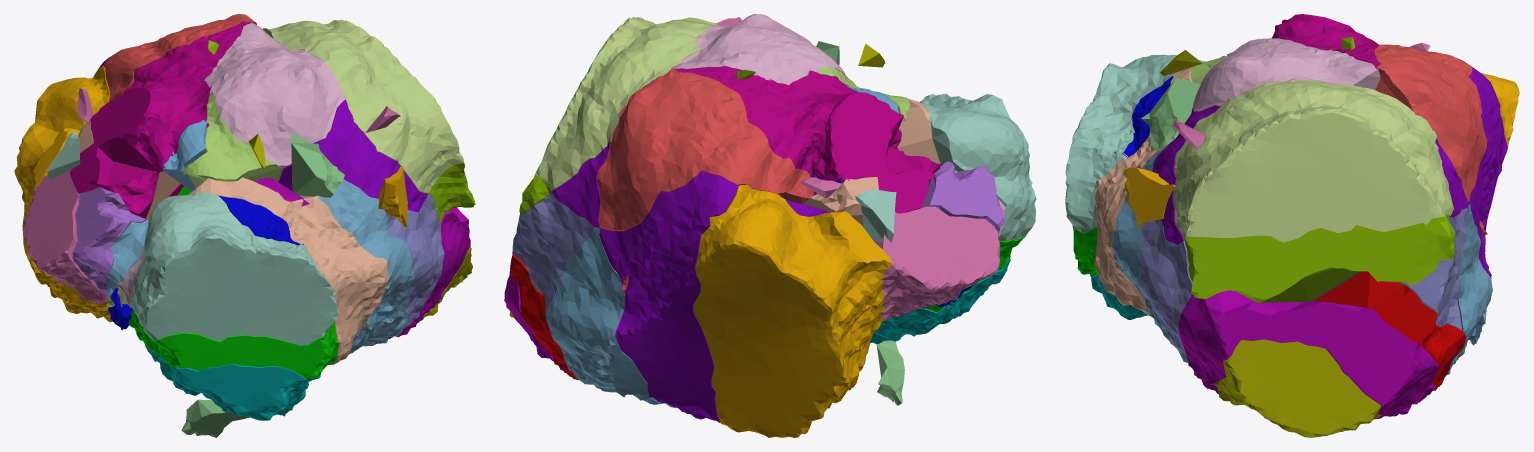
Rendered from fractured_73_55pcs.glb.
3 views of the same model, side by side, from view 1: azimuth 30°, elevation 25°; view 2: azimuth 150°, elevation 25°; view 3: azimuth 270°, elevation 25° (orthographic). The views are drawn at different scales.
Parts seen in each view (by area): view 1: piece_4.obj, piece_5.obj, piece_6.obj, piece_15.obj, piece_7.obj, piece_0.obj, piece_2.obj, piece_8.obj, piece_13.obj, piece_21.obj, piece_16.obj, piece_24.obj (+18 smaller); view 2: piece_0.obj, piece_1.obj, piece_18.obj, piece_15.obj, piece_5.obj, piece_21.obj, piece_2.obj, piece_4.obj, piece_6.obj, piece_26.obj, piece_19.obj, piece_24.obj (+12 smaller); view 3: piece_5.obj, piece_12.obj, piece_14.obj, piece_11.obj, piece_1.obj, piece_4.obj, piece_26.obj, piece_6.obj, piece_2.obj, piece_9.obj, piece_7.obj, piece_18.obj (+11 smaller).
Part boxes in pixels (<box>): piece_4.obj: <box>130,192,337,345</box>; piece_5.obj: <box>263,19,463,192</box>; piece_6.obj: <box>204,22,345,181</box>; piece_15.obj: <box>70,81,211,218</box>; piece_7.obj: <box>188,177,389,364</box>; piece_0.obj: <box>14,65,113,322</box>; piece_2.obj: <box>299,179,414,353</box>; piece_8.obj: <box>129,309,338,379</box>; piece_13.obj: <box>145,345,323,420</box>; piece_21.obj: <box>22,169,107,304</box>; piece_16.obj: <box>278,99,427,212</box>; piece_24.obj: <box>72,187,146,296</box>; piece_0.obj: <box>693,185,891,437</box>; piece_1.obj: <box>596,68,813,231</box>; piece_18.obj: <box>599,170,830,422</box>; piece_15.obj: <box>790,70,940,213</box>; piece_5.obj: <box>535,17,719,191</box>; piece_21.obj: <box>873,206,1000,321</box>; piece_2.obj: <box>546,227,675,407</box>; piece_4.obj: <box>920,93,1036,241</box>; piece_6.obj: <box>671,14,849,85</box>; piece_26.obj: <box>512,192,594,316</box>; piece_19.obj: <box>674,66,807,170</box>; piece_24.obj: <box>921,161,1004,233</box>; piece_5.obj: <box>1173,79,1453,242</box>; piece_12.obj: <box>1178,290,1440,419</box>; piece_14.obj: <box>1185,214,1455,302</box>; piece_11.obj: <box>1213,339,1381,437</box>; piece_1.obj: <box>1374,44,1487,202</box>; piece_4.obj: <box>1065,54,1205,233</box>; piece_26.obj: <box>1140,207,1468,367</box>; piece_6.obj: <box>1192,38,1380,112</box>; piece_2.obj: <box>1111,149,1492,376</box>; piece_9.obj: <box>1313,271,1466,391</box>; piece_7.obj: <box>1094,67,1192,316</box>; piece_18.obj: <box>1469,67,1507,278</box>.
Size of the model in its own units: 1 by 0.777 by 0.913.
